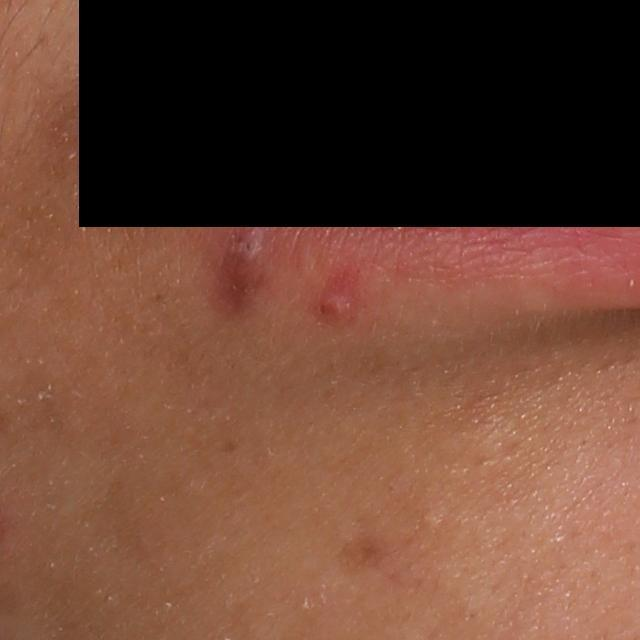comedo: (422, 511, 442, 534)
papule: (214, 233, 269, 303), (314, 287, 356, 329)
